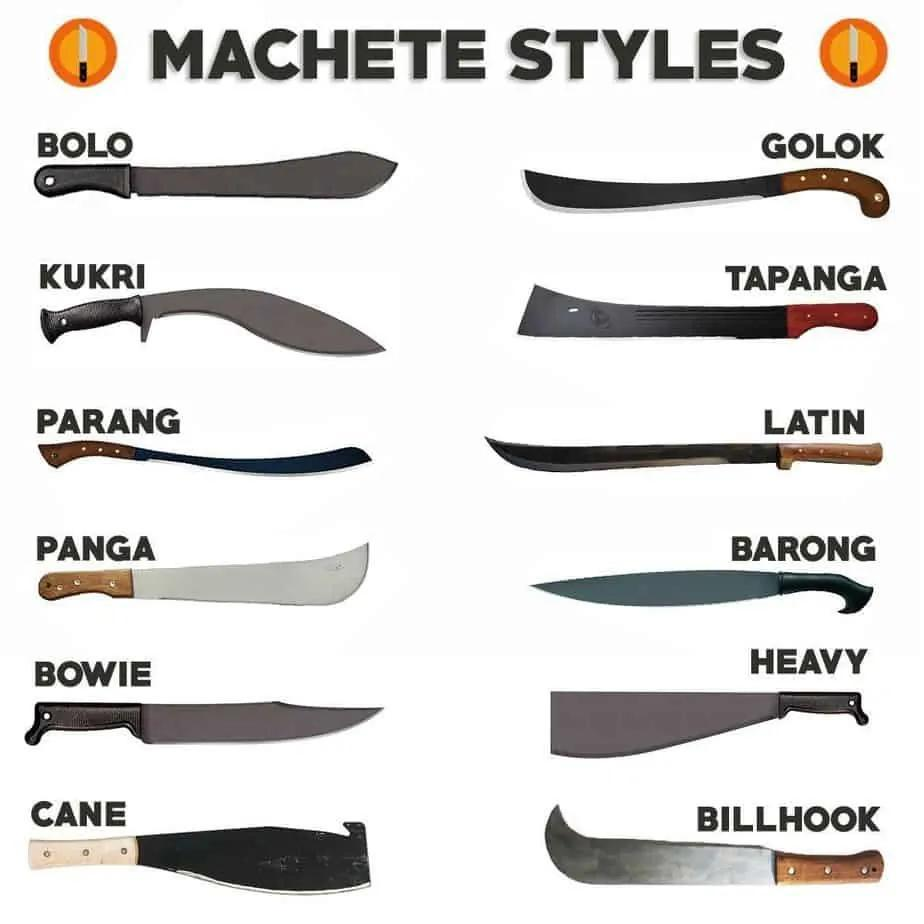facao: (494, 252, 888, 356), (537, 667, 883, 779), (539, 800, 902, 906), (0, 811, 392, 908), (462, 414, 893, 502), (20, 284, 423, 378), (0, 547, 426, 634), (494, 148, 910, 222), (10, 145, 427, 218), (22, 424, 411, 495)
